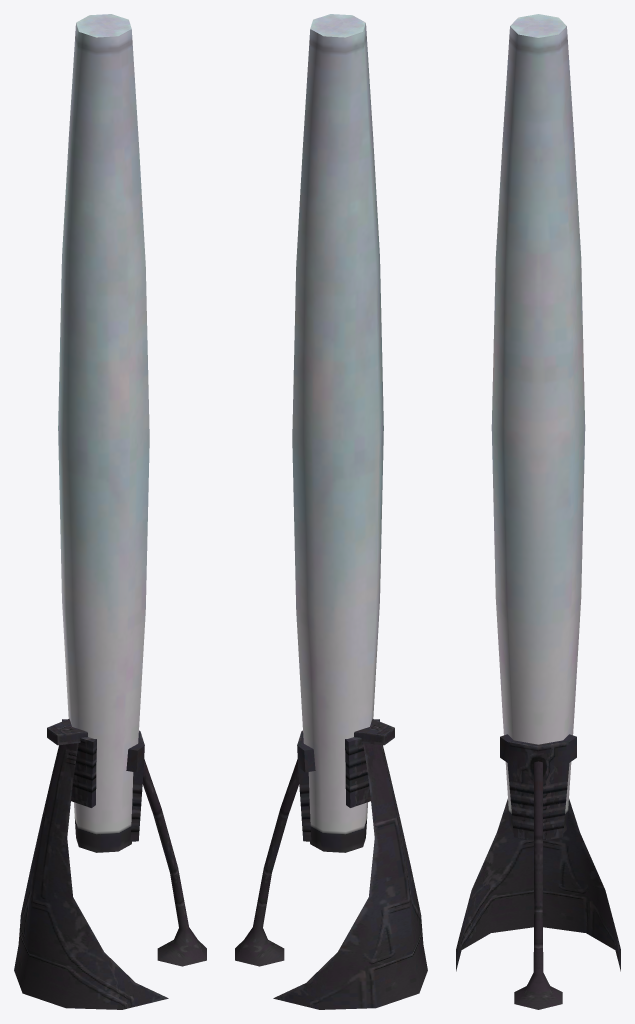
Rendered from frn_all_lamp_free_s3_l0.fbx.
The picture shows the model from 3 angles, left to right: view 1: azimuth 30°, elevation 25°; view 2: azimuth 150°, elevation 25°; view 3: azimuth 270°, elevation 25°; orthographic projection.
Parts seen in each view (by area): view 1: mesh_node; view 2: mesh_node; view 3: mesh_node.
Boxes of the visible parts, left/top/right/bottom form: mesh_node: left=14, top=14, right=206, bottom=1009; mesh_node: left=235, top=14, right=427, bottom=1009; mesh_node: left=456, top=14, right=620, bottom=1009.
Size of the model in its own units: 0.3687 by 1.81 by 0.2895.
1 material, 1 textured.
